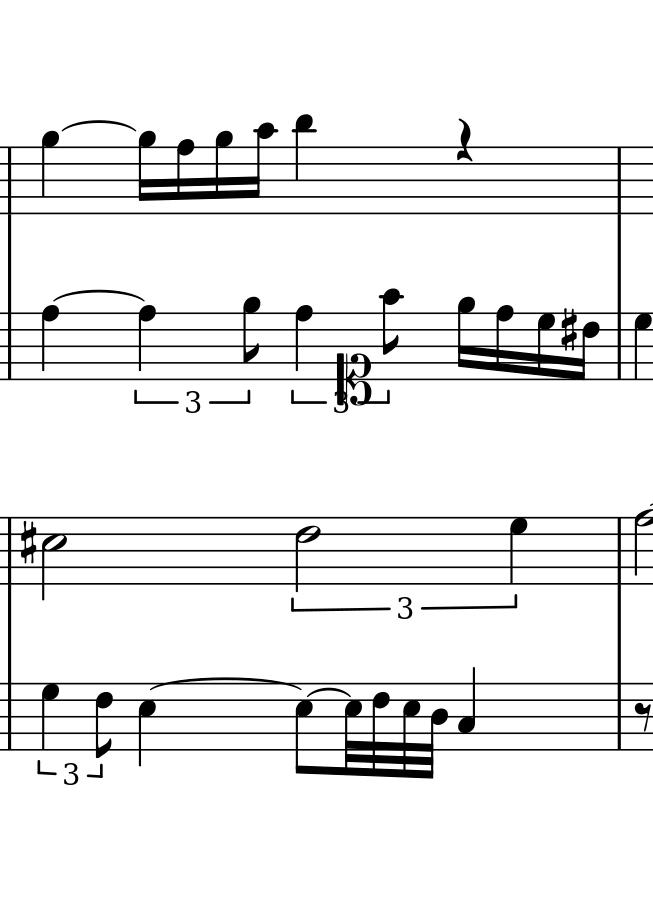16_10: (245, 121, 279, 216)
16_6: (575, 311, 602, 383)
16_7: (535, 312, 556, 381)
16_8: (494, 302, 515, 383), (175, 139, 196, 216)
16_9: (455, 291, 475, 385), (214, 128, 234, 217), (136, 129, 156, 216)
2_5: (40, 518, 67, 599)
2_6: (294, 517, 320, 591)
2_8: (633, 508, 652, 585)
32_4: (424, 678, 449, 783)
32_5: (342, 682, 363, 778), (401, 681, 420, 780)
32_6: (371, 682, 391, 777)
4_3: (456, 668, 477, 750)
4_5: (136, 681, 157, 769)
4_7: (39, 681, 61, 752), (632, 311, 653, 382), (508, 516, 529, 584)
4_8: (39, 304, 61, 381), (293, 303, 314, 382), (137, 303, 157, 380)
4_9: (40, 128, 60, 215)
8_10: (380, 287, 403, 382)
8_11: (293, 110, 315, 219)
8_5: (294, 683, 313, 779)
8_6: (93, 681, 114, 761)
8_9: (242, 296, 262, 382)
E_S: (148, 677, 301, 690), (61, 119, 135, 134), (304, 687, 350, 698)
Rests4: (455, 117, 475, 164)
Rests8: (634, 699, 652, 735)
Sharp: (559, 307, 579, 353), (19, 518, 37, 568)
Single_barline: (1, 147, 18, 214), (612, 517, 629, 584), (612, 311, 629, 377), (1, 517, 17, 584), (612, 147, 628, 213), (613, 684, 628, 748)
Soprano_Cclef: (334, 310, 377, 409)
